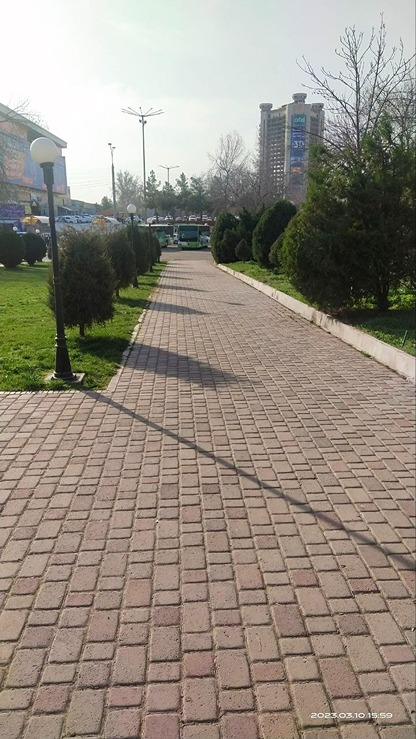tree: (323, 136, 416, 333), (44, 221, 109, 337), (244, 194, 292, 266)
